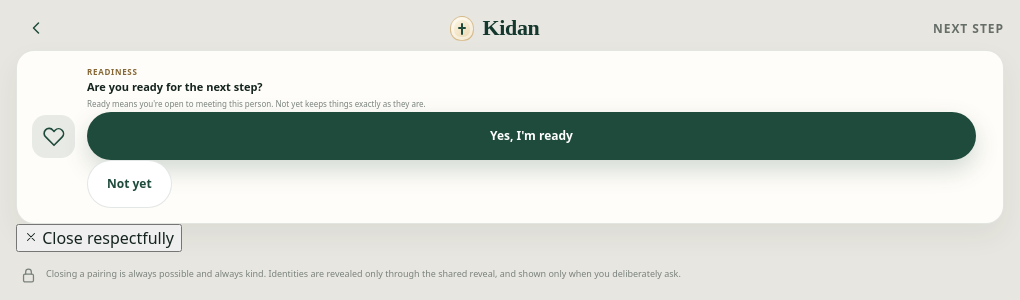
Test: PairingScreen (Kidan Completion candidate surface) › the respectful close surfaces the scheduled follow-up date
expect the text "Are you ready for the next step?" is shown: met, box x1=87 y1=79 x2=263 y2=94
Click the button "Close respectfully" at {"x": 99, "y": 238}, box x1=16 y1=224 x2=182 y2=252
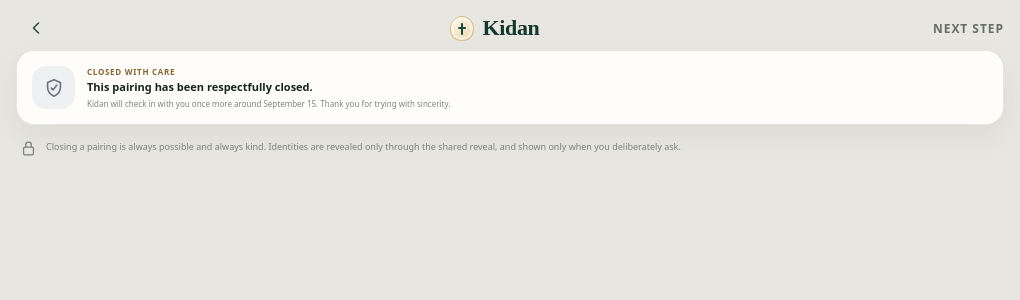
expect the text "This pairing has been respectfully closed." is shown: met, box x1=87 y1=79 x2=313 y2=94
